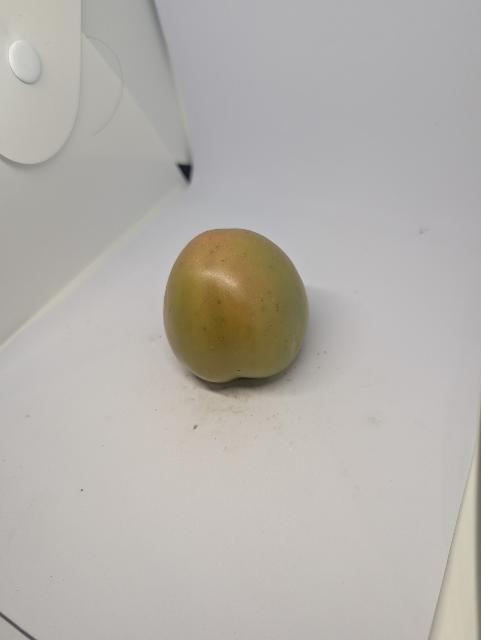breaker: (164, 229, 309, 382)
